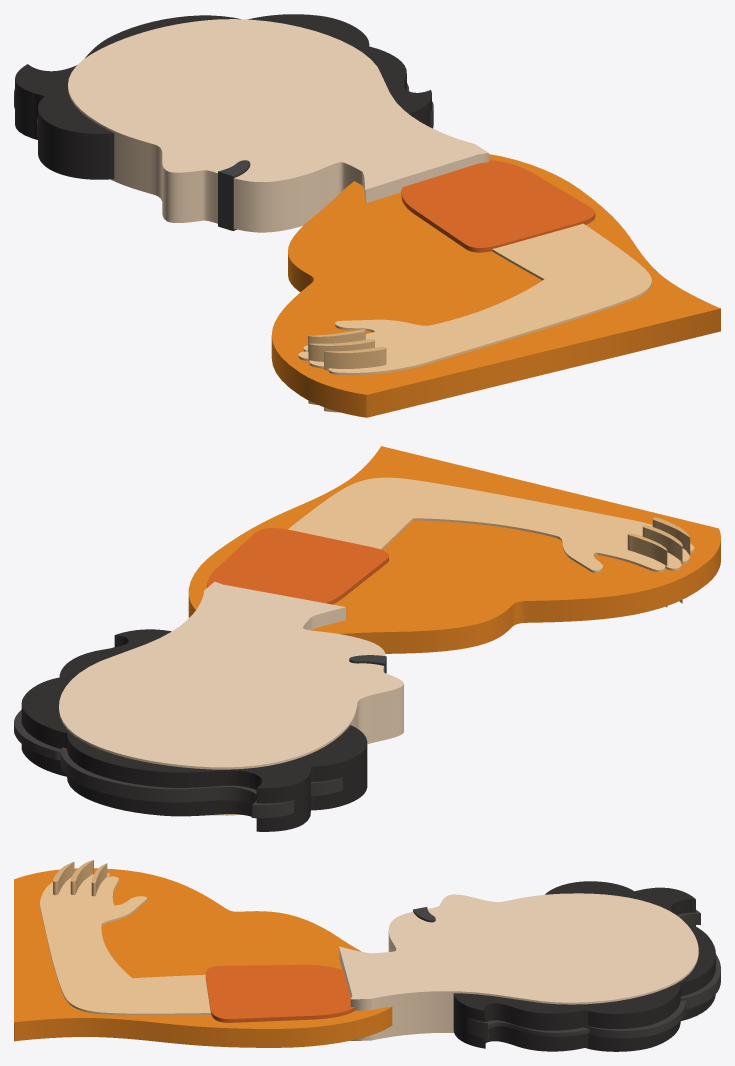
File: emoji_u1fac4_1f3fb.glb
The picture shows the model from 3 angles, top to bottom: view 1: azimuth 30°, elevation 25°; view 2: azimuth 150°, elevation 25°; view 3: azimuth 270°, elevation 25°; orthographic projection. The views are drawn at different scales.
Visible parts, largest first — view 1: emoji_u1fac4_1f3fb; view 2: emoji_u1fac4_1f3fb; view 3: emoji_u1fac4_1f3fb.
Part boxes in pixels (bbox=[...]): emoji_u1fac4_1f3fb: bbox=[14, 14, 720, 417]; emoji_u1fac4_1f3fb: bbox=[14, 446, 720, 831]; emoji_u1fac4_1f3fb: bbox=[14, 860, 720, 1051].
Bounding box in the file's own units: 0.0182 × 0.0026 × 0.0338.
